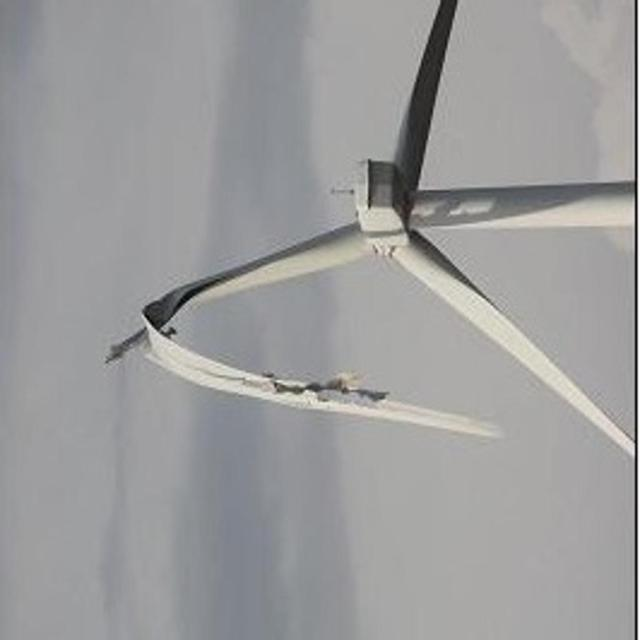crack: (89, 257, 512, 443)
